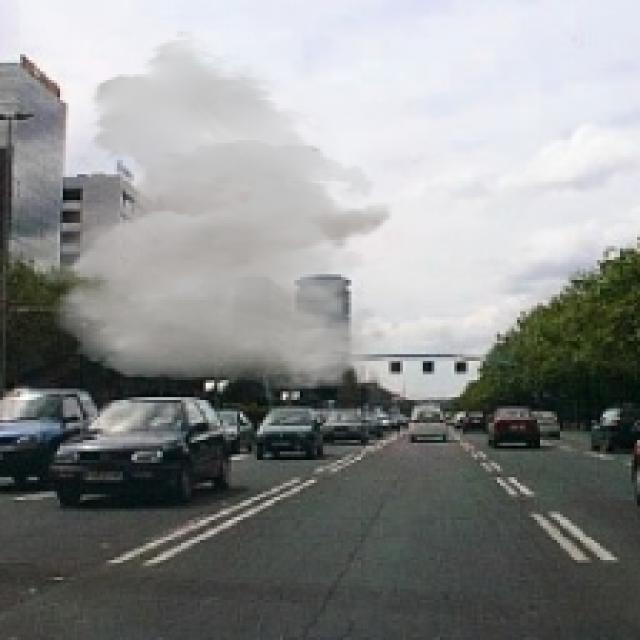smoke: (9, 29, 394, 392)
